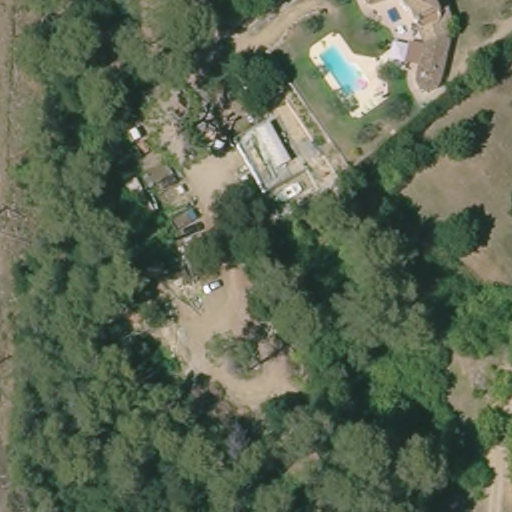pool: (318, 43, 369, 101)
